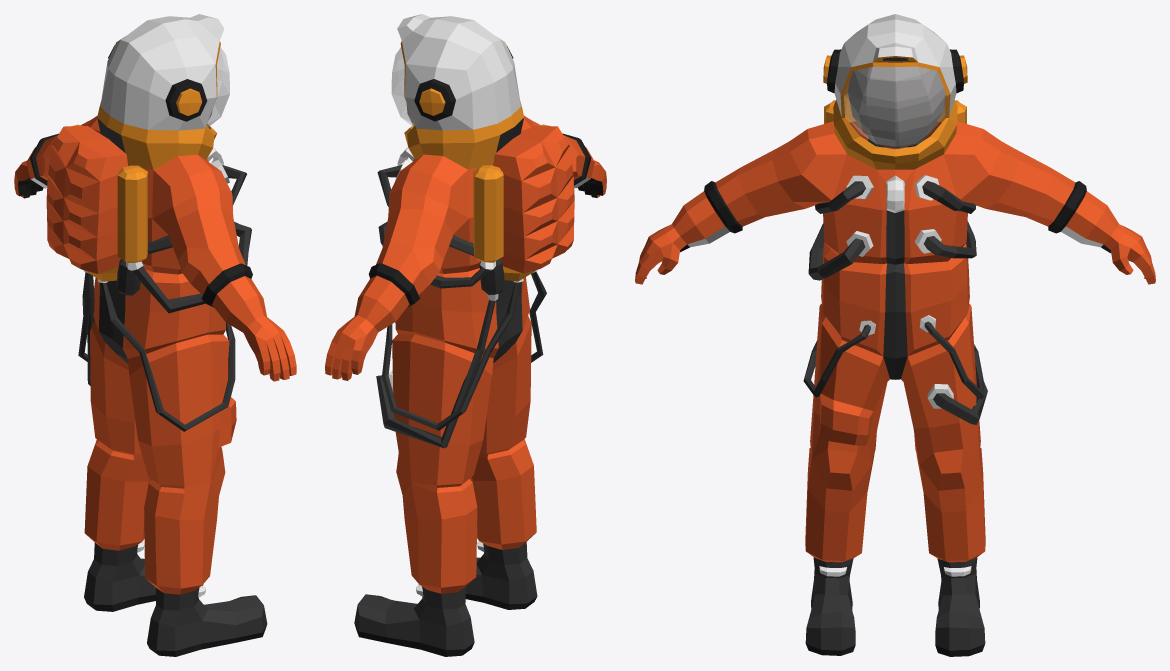
The model's file is Astronaut2.glb.
The picture shows the model from 3 angles, left to right: view 1: azimuth 30°, elevation 25°; view 2: azimuth 150°, elevation 25°; view 3: azimuth 270°, elevation 25°; orthographic projection.
Parts seen in each view (by area): view 1: Suit, Glass; view 2: Suit, Glass; view 3: Suit, Glass, Helmet.
Part boxes in pixels (x1,y1,x2,y2): Suit: (14, 14, 296, 656); Glass: (207, 47, 229, 126); Suit: (325, 14, 606, 656); Glass: (391, 47, 414, 126); Suit: (635, 14, 1155, 656); Glass: (844, 67, 946, 146); Helmet: (847, 66, 945, 148).
Size of the model in its own units: 0.6942 by 2.31 by 1.81.
Materials: 3 (1 with a texture image).
